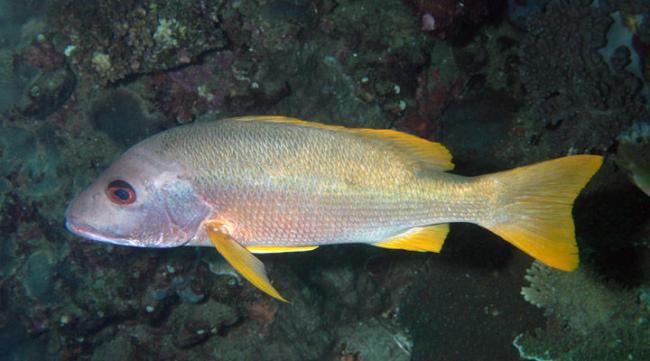fish: (64, 114, 606, 304)
